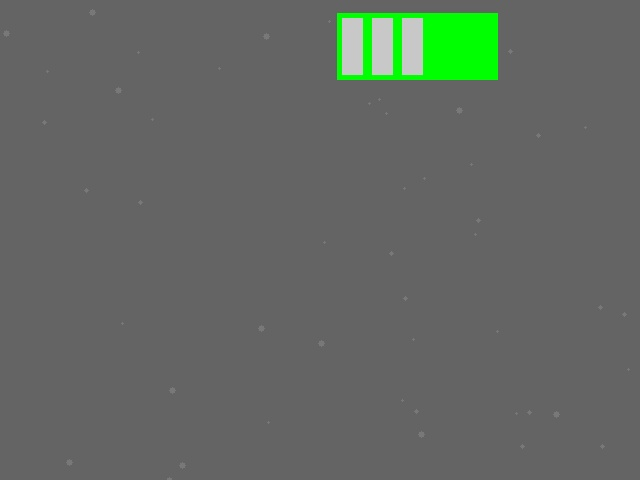bus: (337, 13, 497, 79)
